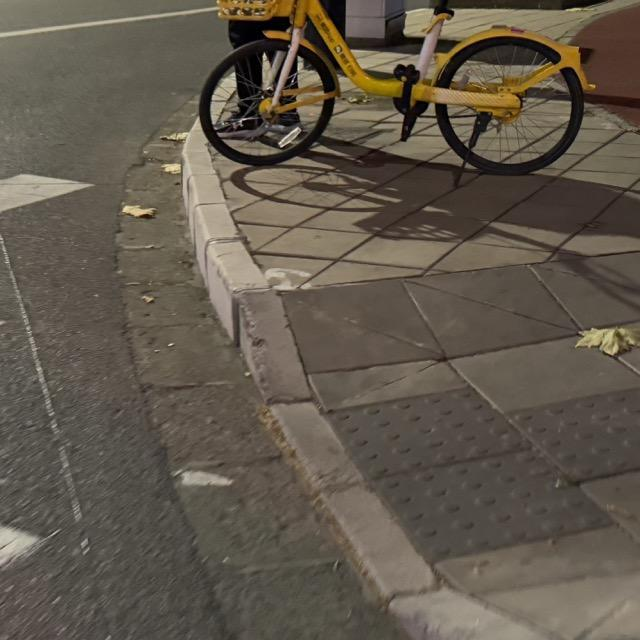curb: (183, 121, 540, 639)
